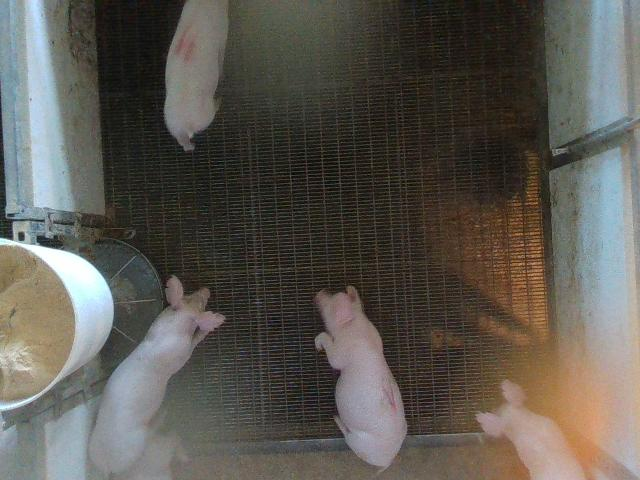pig-1: (315, 286, 408, 467)
pig-4: (165, 0, 228, 151)
